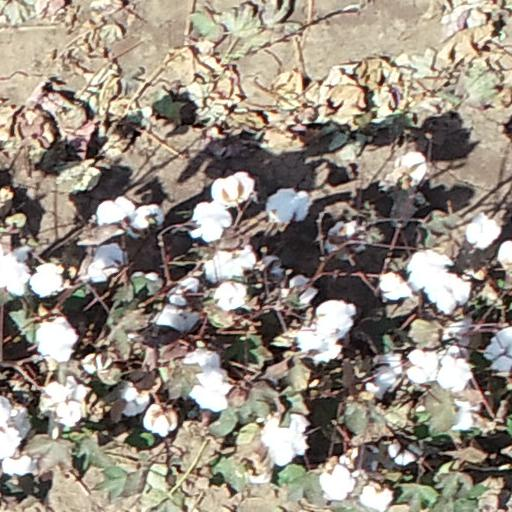Boll: (265, 415, 308, 463), (409, 246, 450, 288), (190, 372, 232, 413), (38, 320, 77, 362), (268, 188, 308, 225), (96, 198, 138, 232), (46, 385, 84, 421), (88, 245, 123, 284), (193, 203, 233, 237), (429, 276, 468, 310), (440, 350, 471, 392), (465, 211, 500, 248), (2, 252, 31, 296), (322, 462, 356, 499), (213, 173, 254, 203), (299, 330, 341, 358), (1, 398, 33, 434), (160, 305, 201, 332), (486, 326, 512, 367), (211, 250, 252, 276), (317, 304, 352, 334), (32, 264, 63, 297), (146, 404, 179, 434), (119, 384, 149, 415), (362, 479, 392, 509), (218, 282, 247, 312), (398, 154, 427, 183), (134, 204, 163, 233), (185, 351, 221, 374), (382, 270, 409, 300), (286, 278, 317, 303), (2, 425, 22, 459), (4, 456, 37, 475), (390, 439, 416, 463), (498, 241, 512, 265)
